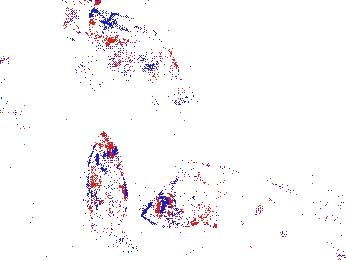X-ray fish: (83, 131, 128, 248), (141, 174, 231, 228), (1, 70, 27, 136)
glassfish: (193, 160, 346, 202)
siberian prawn: (72, 1, 193, 103), (208, 196, 346, 252)
